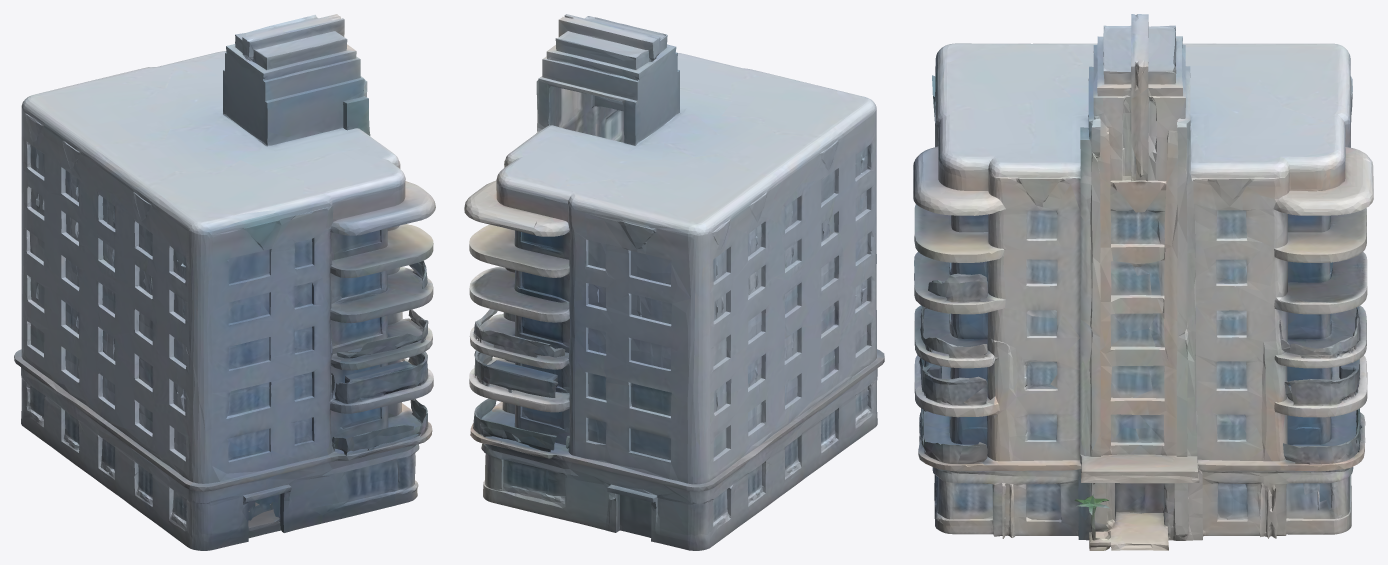
The model's file is cid_orla.glb.
3 views of the same model, side by side, from view 1: azimuth 30°, elevation 25°; view 2: azimuth 150°, elevation 25°; view 3: azimuth 270°, elevation 25° (orthographic). The views are drawn at different scales.
Bounding box in the file's own units: 0.3503 × 0.4917 × 0.435.
Materials: 1 (1 with a texture image).
